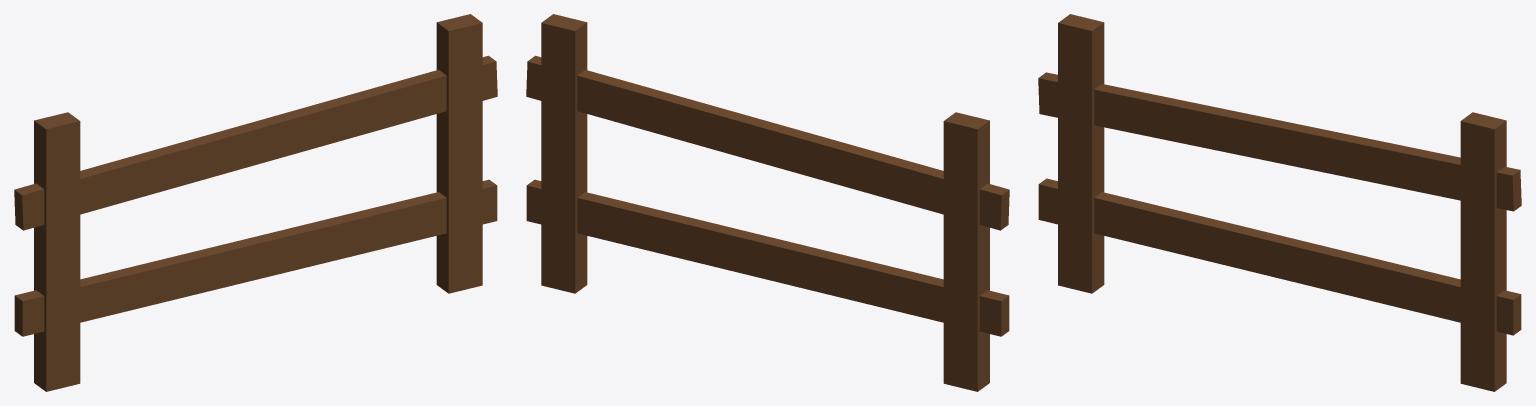
File: fence_2.fbx
The picture shows the model from 3 angles, left to right: view 1: azimuth 30°, elevation 25°; view 2: azimuth 150°, elevation 25°; view 3: azimuth 330°, elevation 25°; orthographic projection.
Parts seen in each view (by area): view 1: fence 2; view 2: fence 2; view 3: fence 2.
Boxes of the visible parts, x1,y1,x2,y2 form: fence 2: (14,14,497,391); fence 2: (526,14,1009,391); fence 2: (1038,14,1521,391).
Bounding box in the file's own units: 379 × 200 × 16.77.
